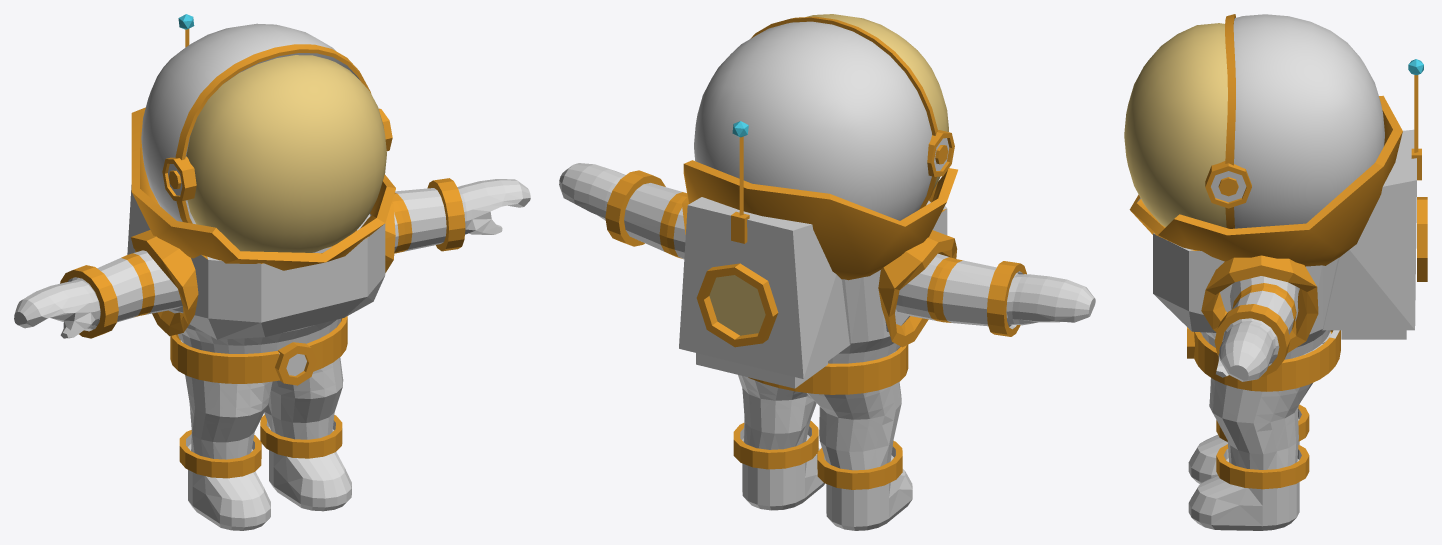
Rendered from astro0.fbx.
3 renders of one model, left to right at view 1: azimuth 30°, elevation 25°; view 2: azimuth 150°, elevation 25°; view 3: azimuth 270°, elevation 25°, orthographic. The views are drawn at different scales.
Visible parts, largest first — view 1: Astronaut; view 2: Astronaut; view 3: Astronaut.
Boxes of the visible parts, box(x1,y1,x2,y2) form: Astronaut: box(14, 14, 530, 530); Astronaut: box(559, 14, 1095, 530); Astronaut: box(1124, 14, 1427, 530).
Size of the model in its own units: 419 by 360 by 210.
